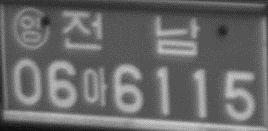0: (11, 56, 42, 106)
1: (184, 67, 217, 119), (147, 66, 178, 116)
5: (222, 70, 257, 121)
6: (112, 62, 146, 113), (45, 59, 79, 108)
아: (81, 66, 109, 108)
영: (12, 6, 51, 50)
전남_D: (61, 9, 201, 57)
